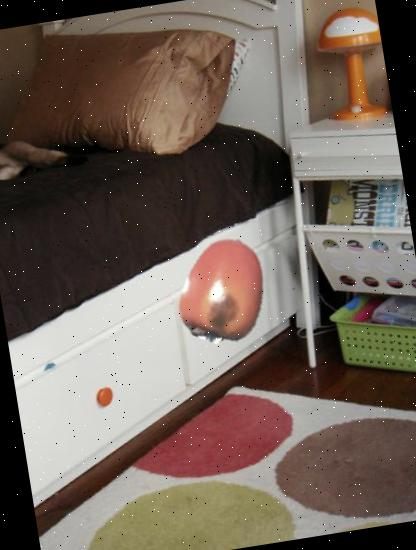Kaki: (164, 230, 286, 352)
